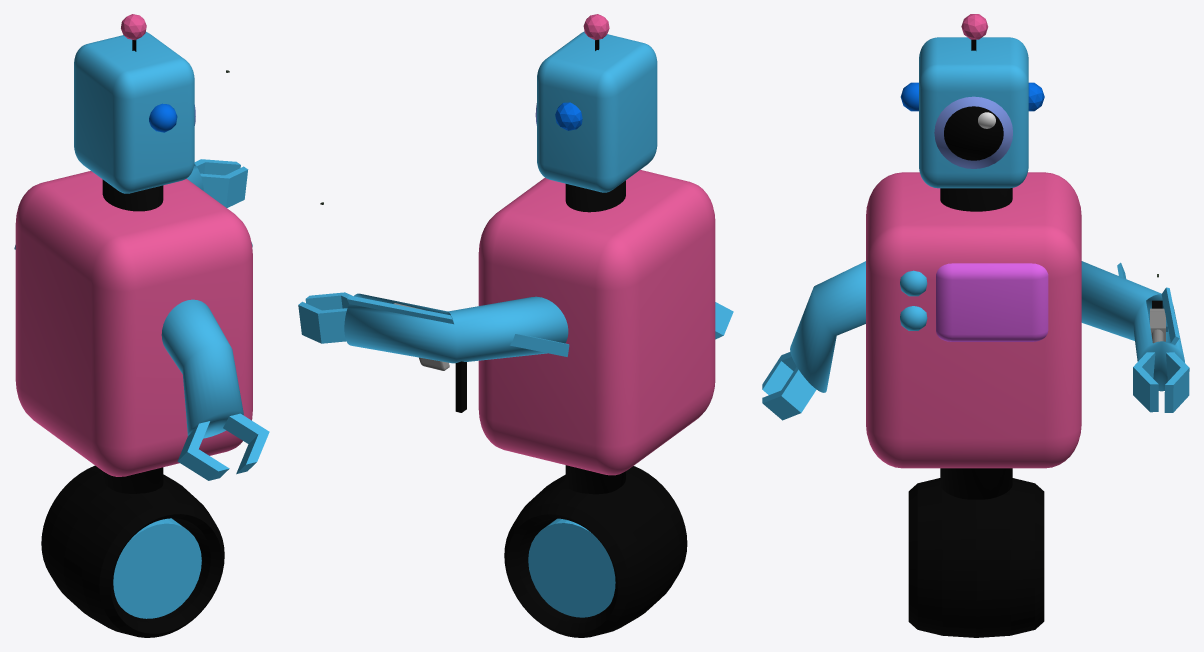
The model's file is botanfboxtekparca.fbx.
The picture shows the model from 3 angles, left to right: view 1: azimuth 30°, elevation 25°; view 2: azimuth 150°, elevation 25°; view 3: azimuth 270°, elevation 25°; orthographic projection.
Visible parts, largest first — view 1: Cylinder.002; view 2: Cylinder.002; view 3: Cylinder.002.
Boxes of the visible parts, x1,y1,x2,y2 form: Cylinder.002: [14, 14, 269, 637]; Cylinder.002: [298, 14, 733, 637]; Cylinder.002: [762, 14, 1189, 637].
Size of the model in its own units: 830 by 1729 by 1086.
